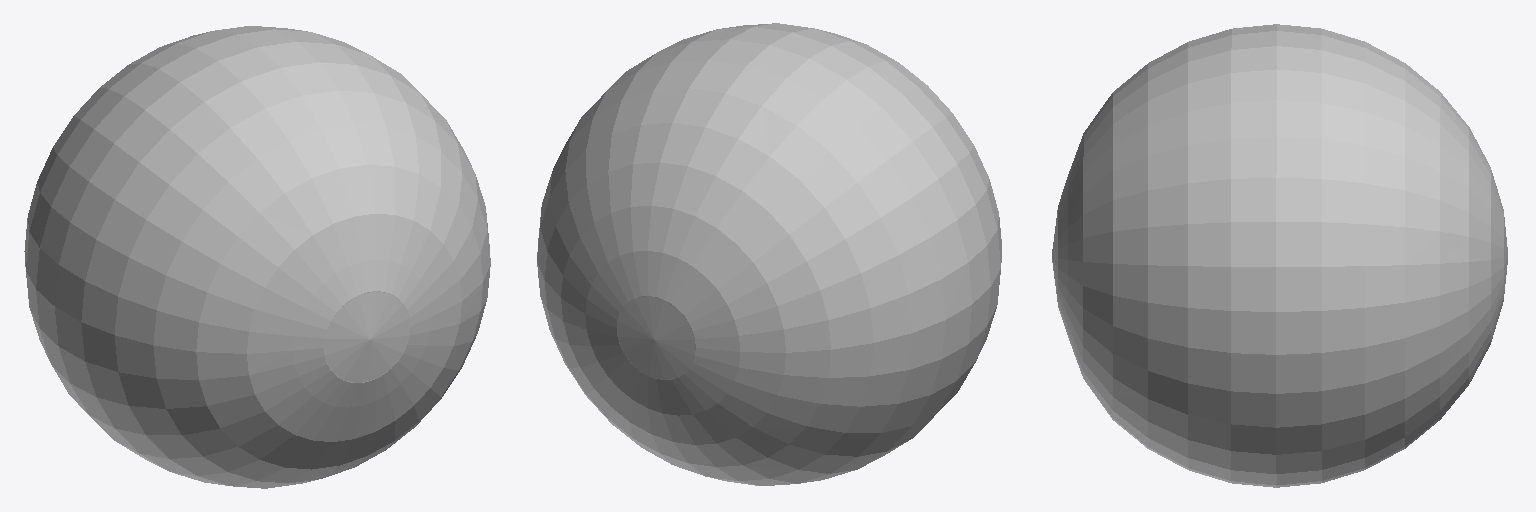
The model's file is eyeball_obj.obj.
3 views of the same model, side by side, from view 1: azimuth 30°, elevation 25°; view 2: azimuth 150°, elevation 25°; view 3: azimuth 270°, elevation 25° (orthographic).
Parts seen in each view (by area): view 1: eyeball; view 2: eyeball; view 3: eyeball.
Boxes of the visible parts, x1,y1,x2,y2 form: eyeball: [24, 26, 490, 488]; eyeball: [537, 23, 1001, 485]; eyeball: [1052, 24, 1507, 487].
Size of the model in its own units: 1.47 by 1.45 by 1.43.